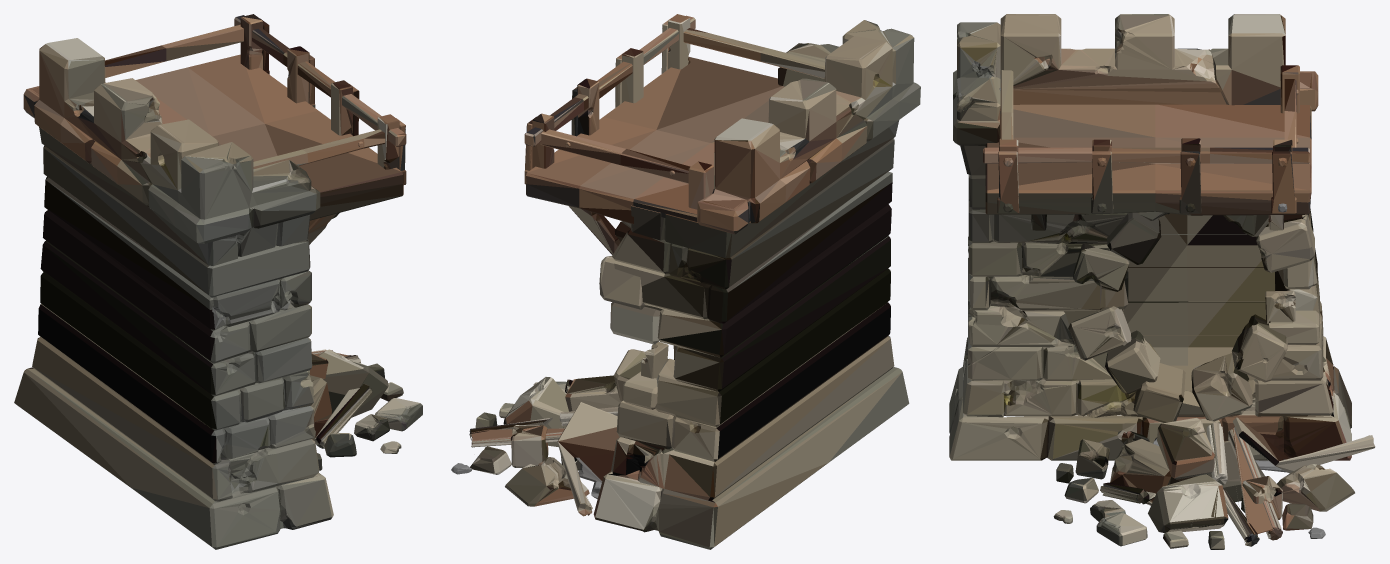
Rendered from Wall_Breach.glb.
The picture shows the model from 3 angles, left to right: view 1: azimuth 30°, elevation 25°; view 2: azimuth 150°, elevation 25°; view 3: azimuth 270°, elevation 25°; orthographic projection.
Parts seen in each view (by area): view 1: world; view 2: world; view 3: world.
Part boxes in pixels (left/top/right/bottom): world: left=14, top=14, right=422, bottom=549; world: left=451, top=14, right=920, bottom=549; world: left=949, top=14, right=1375, bottom=549.
Bounding box in the file's own units: 0.8496 × 0.998 × 0.9902.
